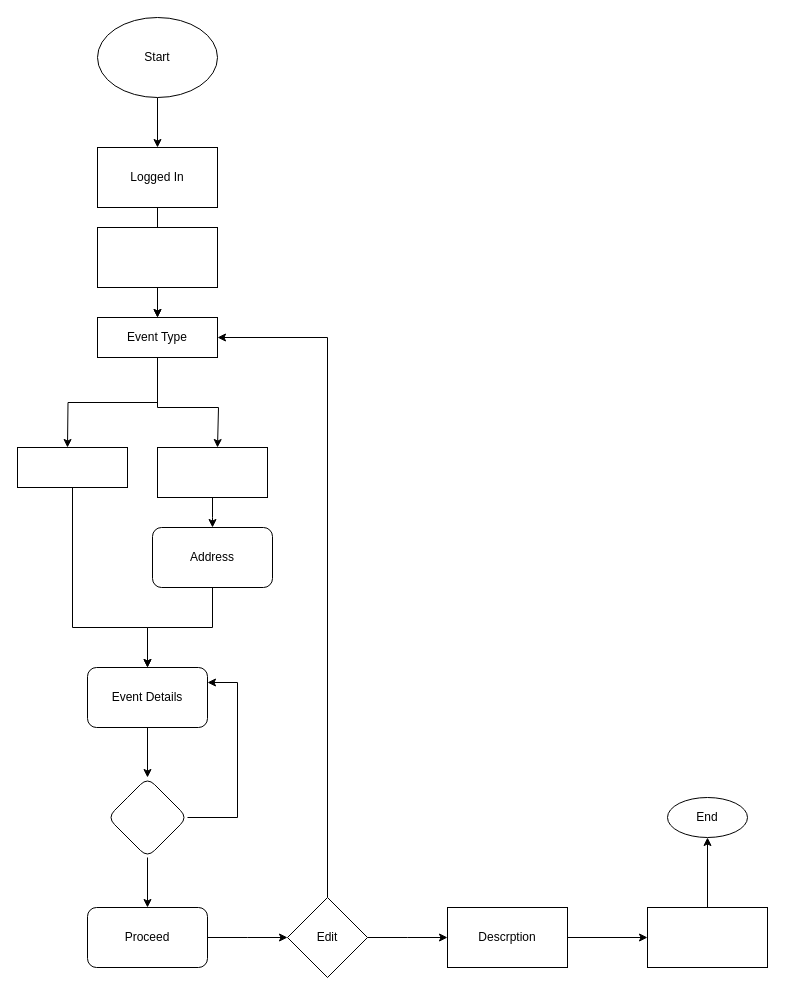
Image size: 785x995. Some labels were removed from this diagram. Each missing label, with the centre of its shape:
Click on an event: the point at 157,257
Filled Mandatory: the point at 147,817
Online: the point at 72,467
Onsite: the point at 212,472
Post: the point at 707,937
